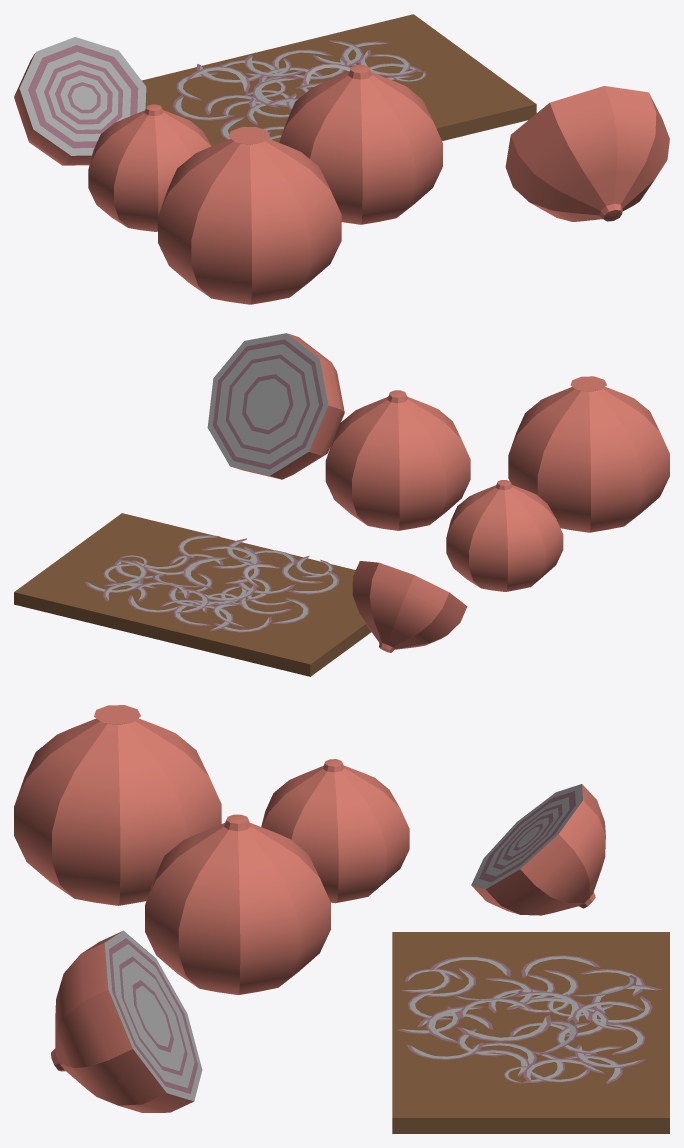
Rendered from OnionTable.fbx.
3 views of the same model, one above another, from view 1: azimuth 30°, elevation 25°; view 2: azimuth 150°, elevation 25°; view 3: azimuth 270°, elevation 25° (orthographic). The views are drawn at different scales.
Parts seen in each view (by area): view 1: Circle; view 2: Circle; view 3: Circle.
Part boxes in pixels (bbox=[...]): Circle: bbox=[14, 14, 669, 304]; Circle: bbox=[14, 333, 669, 676]; Circle: bbox=[14, 705, 669, 1133].
Bounding box in the file's own units: 177 × 59.39 × 179.
